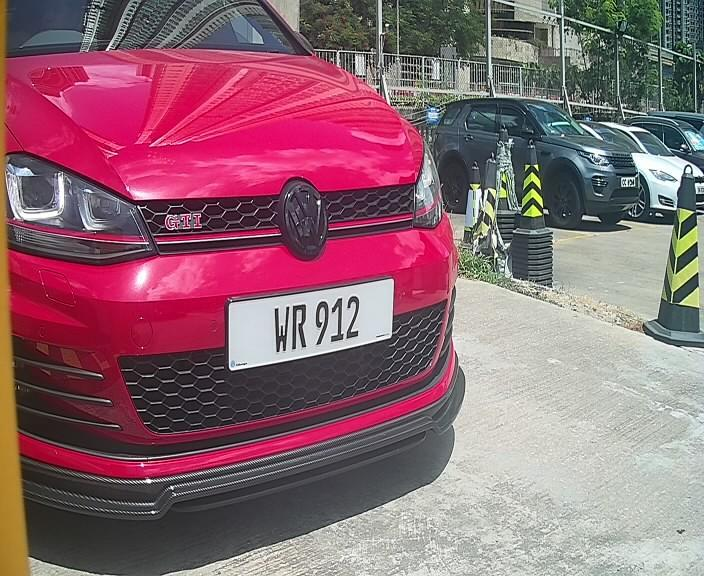privatecar: (4, 3, 485, 530)
